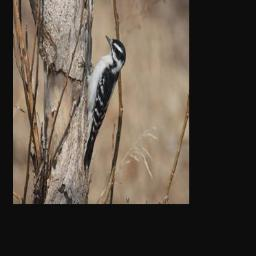Woodpecker: (78, 34, 127, 175)
